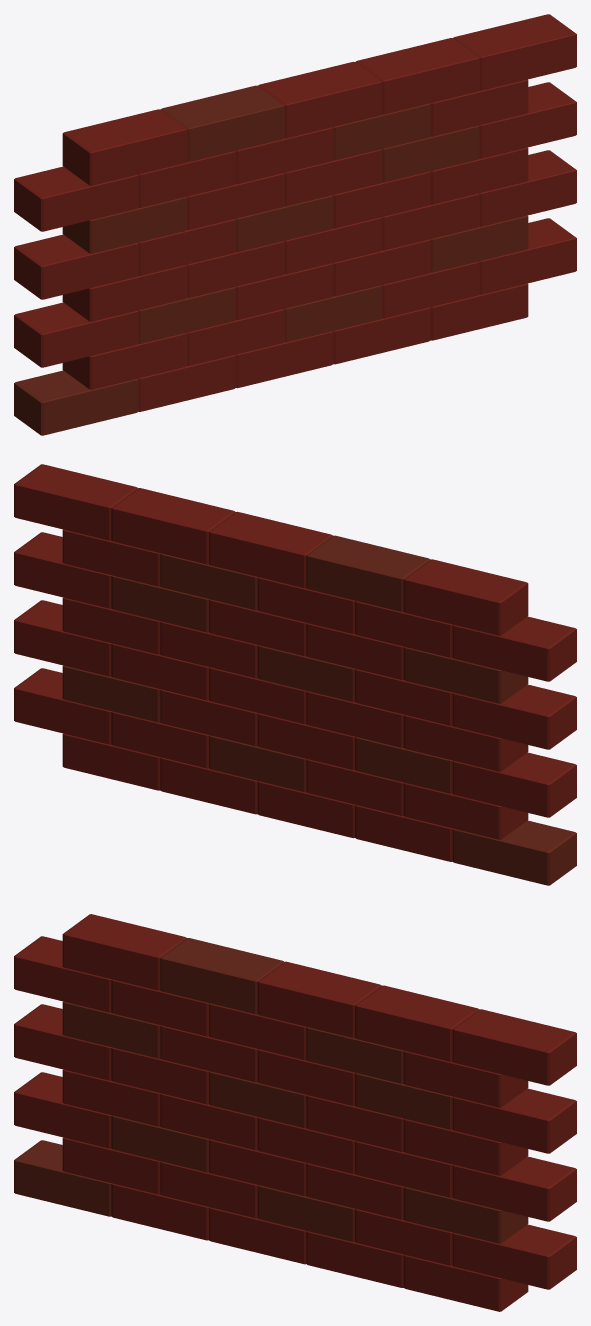
The model's file is blockwall.fbx.
3 views of the same model, one above another, from view 1: azimuth 30°, elevation 25°; view 2: azimuth 150°, elevation 25°; view 3: azimuth 330°, elevation 25° (orthographic).
Parts seen in each view (by area): view 1: Cube.008, Cube.032, Cube.016, Cube.040, Cube.024, Cube.005, Cube.001, Cube.003, Cube.007, Cube.036, Cube.034, Cube.038 (+28 smaller); view 2: Cube.008, Cube.032, Cube.016, Cube.040, Cube.024, Cube.005, Cube.001, Cube.003, Cube.007, Cube.036, Cube.034, Cube.038 (+28 smaller); view 3: Cube.040, Cube.008, Cube.032, Cube.016, Cube.024, Cube.036, Cube.038, Cube.034, Cube.003, Cube.005, Cube.001, Cube.007 (+28 smaller).
Boxes of the visible parts, x1,y1,x2,y2 form: Cube.008: [62, 109, 187, 185]; Cube.032: [355, 38, 479, 114]; Cube.016: [160, 85, 284, 161]; Cube.040: [453, 14, 576, 90]; Cube.024: [258, 61, 381, 138]; Cube.005: [14, 234, 138, 299]; Cube.001: [14, 370, 138, 435]; Cube.003: [14, 302, 138, 367]; Cube.007: [14, 166, 138, 231]; Cube.036: [479, 150, 576, 226]; Cube.034: [479, 218, 576, 294]; Cube.038: [479, 82, 576, 158]; Cube.008: [403, 559, 528, 635]; Cube.032: [111, 488, 235, 564]; Cube.016: [306, 535, 430, 611]; Cube.040: [14, 464, 137, 540]; Cube.024: [209, 511, 332, 588]; Cube.005: [452, 684, 576, 749]; Cube.001: [452, 820, 576, 885]; Cube.003: [452, 752, 576, 817]; Cube.007: [452, 616, 576, 681]; Cube.036: [14, 600, 111, 676]; Cube.034: [14, 668, 111, 744]; Cube.038: [14, 532, 111, 608]; Cube.040: [452, 1009, 576, 1085]; Cube.008: [62, 914, 186, 990]; Cube.032: [355, 985, 478, 1061]; Cube.016: [160, 938, 284, 1014]; Cube.024: [257, 961, 381, 1038]; Cube.036: [452, 1156, 576, 1221]; Cube.038: [452, 1088, 576, 1153]; Cube.034: [452, 1224, 576, 1289]; Cube.003: [14, 1072, 111, 1148]; Cube.005: [14, 1004, 111, 1080]; Cube.001: [14, 1140, 111, 1216]; Cube.007: [14, 936, 111, 1012].
Bounding box in the file's own units: 150 × 1650 × 800.
